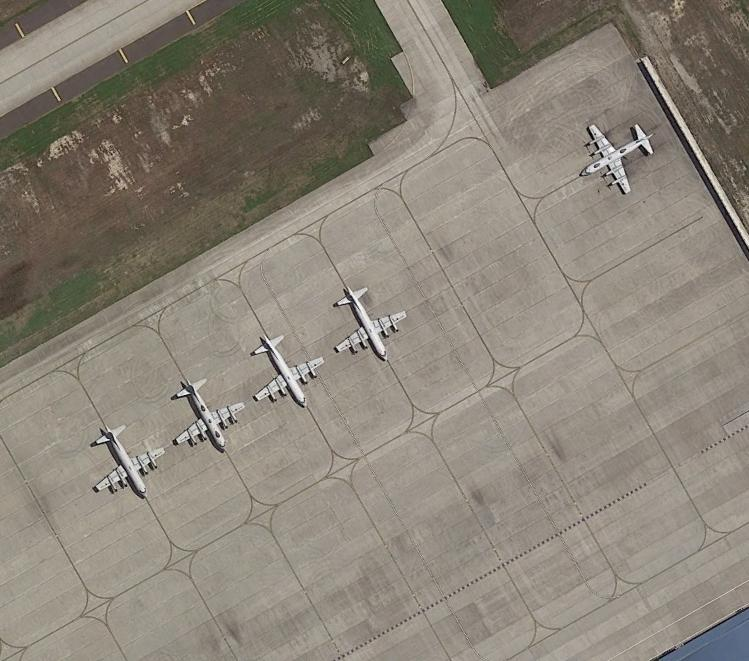A9: (573, 113, 670, 196), (331, 273, 416, 361), (170, 365, 246, 453), (88, 409, 164, 497), (250, 318, 324, 407)
